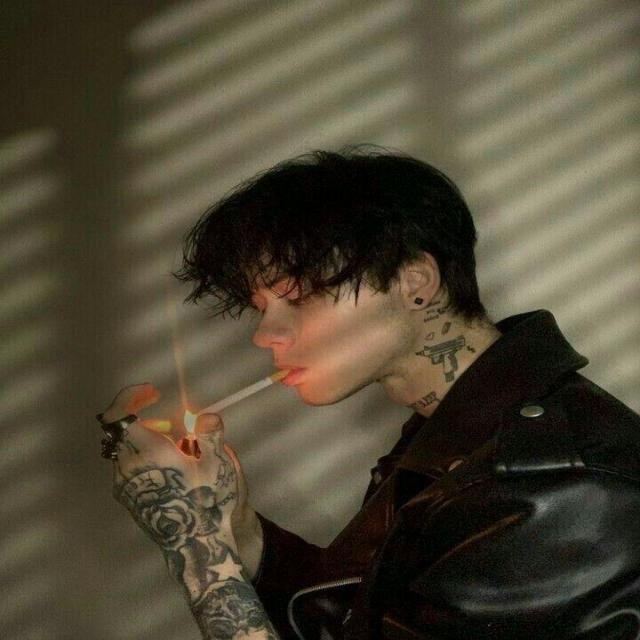cigarette: (199, 359, 301, 415)
